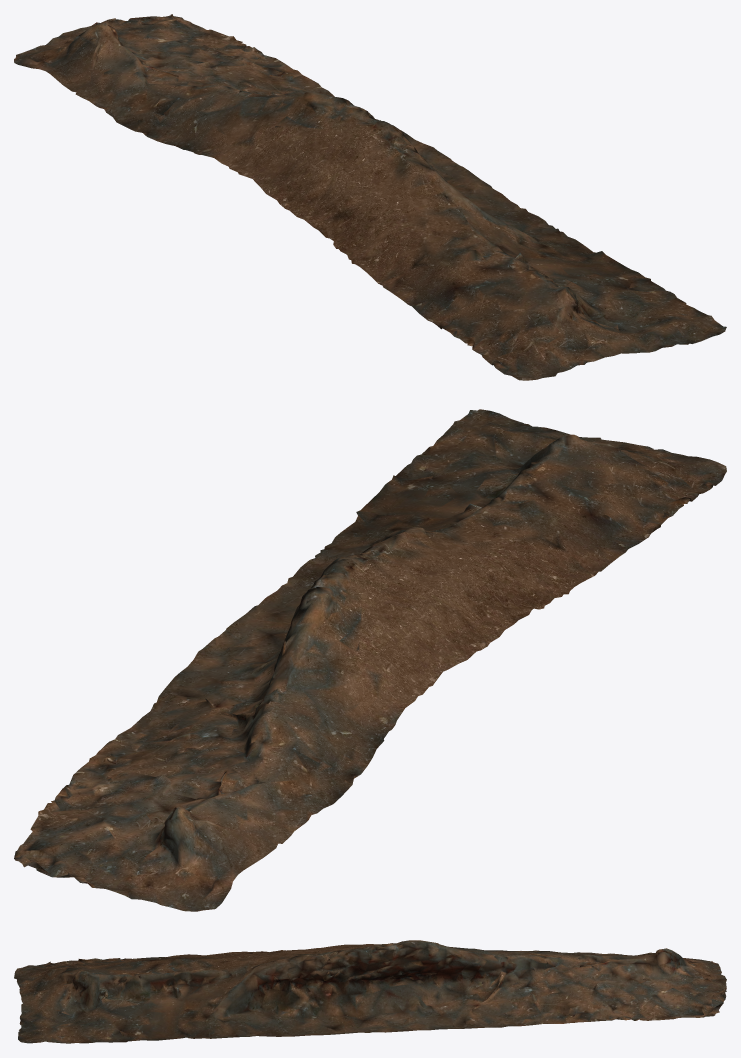
The model's file is single_root.glb.
The picture shows the model from 3 angles, top to bottom: view 1: azimuth 30°, elevation 25°; view 2: azimuth 150°, elevation 25°; view 3: azimuth 270°, elevation 25°; orthographic projection. The views are drawn at different scales.
Visible parts, largest first — view 1: single_root; view 2: single_root; view 3: single_root.
Boxes of the visible parts, x1,y1,x2,y2 form: single_root: [14, 14, 726, 380]; single_root: [14, 409, 726, 911]; single_root: [14, 940, 726, 1043].
Size of the model in its own units: 0.5552 by 0.1768 by 1.84.
1 material, 1 textured.
